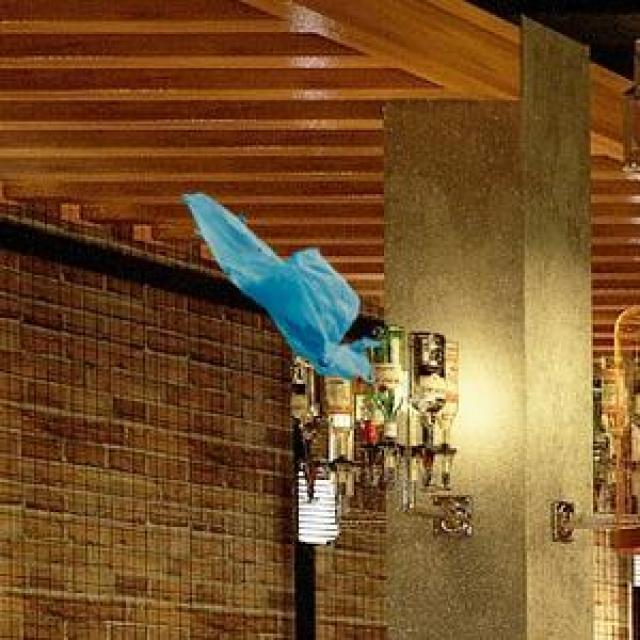waste: (184, 196, 375, 379)
